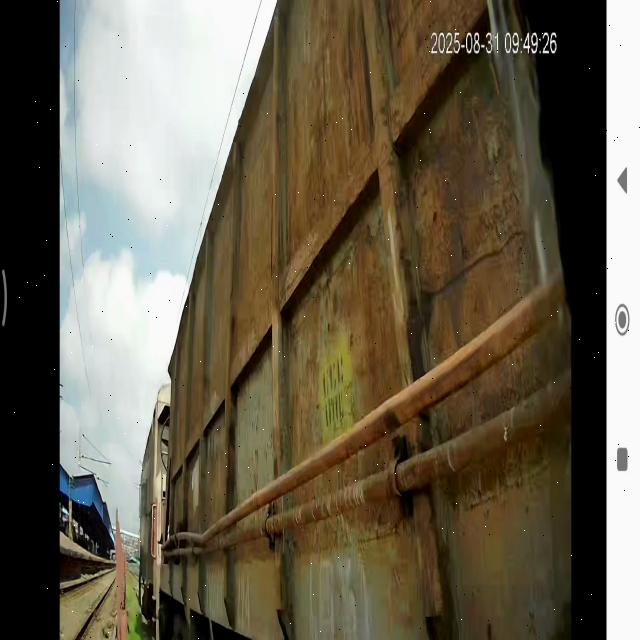coach: (174, 4, 590, 640)
